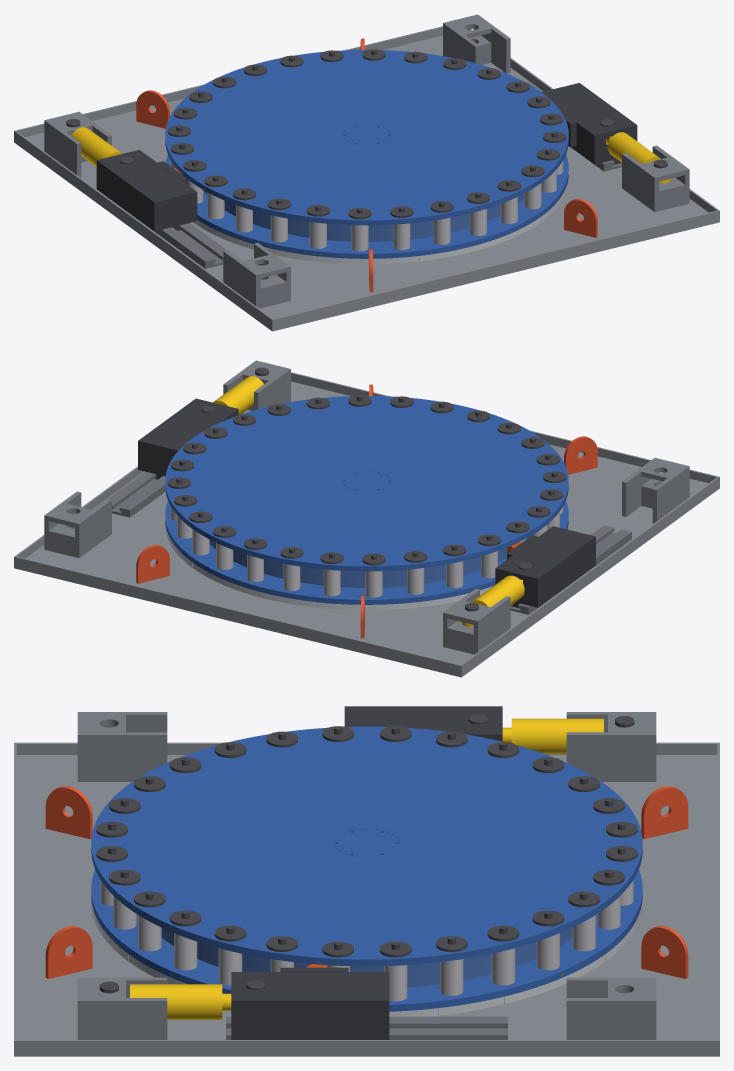
3 renders of one model, top to bottom at view 1: azimuth 30°, elevation 25°; view 2: azimuth 150°, elevation 25°; view 3: azimuth 270°, elevation 25°, orthographic. The views are drawn at different scales.
Visible parts, largest first — view 1: TT300C-MES-001-C Plancha superior de la mesa, TT300C-BAS-001-C Plancha base, TT300C-MES-002-C Anillo superior de pasadores, TT300C-ACC-003-C PatÃn guiado, TT300C-BAS-005-C Mejilla de mÃ©nsula, TT300C-MES-013-C Perno ISO 4762 M20Ã45 con arandela, TT300C-BAS-003-C Marco perimetral largo, TT300C-MES-004-C Anillo inferior de pasadores, TT300C-MES-012-C Pasador de empuje, TT300C-BAS-004-C Marco perimetral corto, TT300C-MES-007-C Alma anular R840, TT300C-IZA-001-C Oreja de izaje (+7 smaller); view 2: TT300C-MES-001-C Plancha superior de la mesa, TT300C-BAS-001-C Plancha base, TT300C-MES-002-C Anillo superior de pasadores, TT300C-ACC-003-C PatÃn guiado, TT300C-BAS-005-C Mejilla de mÃ©nsula, TT300C-MES-013-C Perno ISO 4762 M20Ã45 con arandela, TT300C-BAS-003-C Marco perimetral largo, TT300C-MES-004-C Anillo inferior de pasadores, TT300C-MES-012-C Pasador de empuje, TT300C-BAS-004-C Marco perimetral corto, TT300C-ACC-001-C Bancada de guÃa con ranura T, TT300C-MES-007-C Alma anular R840 (+7 smaller); view 3: TT300C-MES-001-C Plancha superior de la mesa, TT300C-BAS-001-C Plancha base, TT300C-MES-002-C Anillo superior de pasadores, TT300C-BAS-005-C Mejilla de mÃ©nsula, TT300C-ACC-003-C PatÃn guiado, TT300C-MES-013-C Perno ISO 4762 M20Ã45 con arandela, TT300C-BAS-004-C Marco perimetral corto, TT300C-MES-004-C Anillo inferior de pasadores, TT300C-MES-012-C Pasador de empuje, TT300C-IZA-001-C Oreja de izaje, TT300C-ACC-002-C Cilindro hidrÃ¡ulico doble efecto, TT300C-MES-007-C Alma anular R840 (+6 smaller).
Boxes of the visible parts, x1=… form: TT300C-MES-001-C Plancha superior de la mesa: x1=193, y1=61, x2=540, y2=208; TT300C-BAS-001-C Plancha base: x1=14, y1=35, x2=719, y2=331; TT300C-MES-002-C Anillo superior de pasadores: x1=165, y1=50, x2=568, y2=225; TT300C-ACC-003-C PatÃn guiado: x1=96, y1=83, x2=637, y2=231; TT300C-BAS-005-C Mejilla de mÃ©nsula: x1=44, y1=14, x2=689, y2=308; TT300C-MES-013-C Perno ISO 4762 M20Ã45 con arandela: x1=167, y1=49, x2=566, y2=219; TT300C-BAS-003-C Marco perimetral largo: x1=14, y1=26, x2=719, y2=327; TT300C-MES-004-C Anillo inferior de pasadores: x1=165, y1=155, x2=568, y2=258; TT300C-MES-012-C Pasador de empuje: x1=170, y1=160, x2=563, y2=251; TT300C-BAS-004-C Marco perimetral corto: x1=15, y1=29, x2=718, y2=326; TT300C-MES-007-C Alma anular R840: x1=203, y1=190, x2=524, y2=241; TT300C-IZA-001-C Oreja de izaje: x1=136, y1=38, x2=597, y2=292; TT300C-MES-001-C Plancha superior de la mesa: x1=193, y1=407, x2=540, y2=554; TT300C-BAS-001-C Plancha base: x1=14, y1=381, x2=719, y2=677; TT300C-MES-002-C Anillo superior de pasadores: x1=165, y1=396, x2=568, y2=571; TT300C-ACC-003-C PatÃn guiado: x1=138, y1=398, x2=595, y2=607; TT300C-BAS-005-C Mejilla de mÃ©nsula: x1=44, y1=360, x2=689, y2=654; TT300C-MES-013-C Perno ISO 4762 M20Ã45 con arandela: x1=167, y1=395, x2=566, y2=565; TT300C-BAS-003-C Marco perimetral largo: x1=14, y1=372, x2=719, y2=673; TT300C-MES-004-C Anillo inferior de pasadores: x1=165, y1=501, x2=568, y2=604; TT300C-MES-012-C Pasador de empuje: x1=170, y1=506, x2=563, y2=597; TT300C-BAS-004-C Marco perimetral corto: x1=15, y1=466, x2=718, y2=672; TT300C-ACC-001-C Bancada de guÃa con ranura T: x1=108, y1=471, x2=631, y2=614; TT300C-MES-007-C Alma anular R840: x1=209, y1=536, x2=530, y2=587; TT300C-MES-001-C Plancha superior de la mesa: x1=130, y1=743, x2=603, y2=943; TT300C-BAS-001-C Plancha base: x1=14, y1=755, x2=719, y2=1056; TT300C-MES-002-C Anillo superior de pasadores: x1=91, y1=726, x2=642, y2=966; TT300C-BAS-005-C Mejilla de mÃ©nsula: x1=77, y1=712, x2=656, y2=1039; TT300C-ACC-003-C PatÃn guiado: x1=231, y1=706, x2=502, y2=1039; TT300C-MES-013-C Perno ISO 4762 M20Ã45 con arandela: x1=96, y1=726, x2=637, y2=957; TT300C-BAS-004-C Marco perimetral corto: x1=16, y1=742, x2=717, y2=1052; TT300C-MES-004-C Anillo inferior de pasadores: x1=91, y1=869, x2=642, y2=1011; TT300C-MES-012-C Pasador de empuje: x1=100, y1=880, x2=633, y2=1001; TT300C-IZA-001-C Oreja de izaje: x1=45, y1=786, x2=688, y2=978; TT300C-ACC-002-C Cilindro hidrÃ¡ulico doble efecto: x1=130, y1=718, x2=603, y2=1019; TT300C-MES-007-C Alma anular R840: x1=161, y1=928, x2=572, y2=987.
Size of the model in its own units: 2560 by 288 by 2560.
